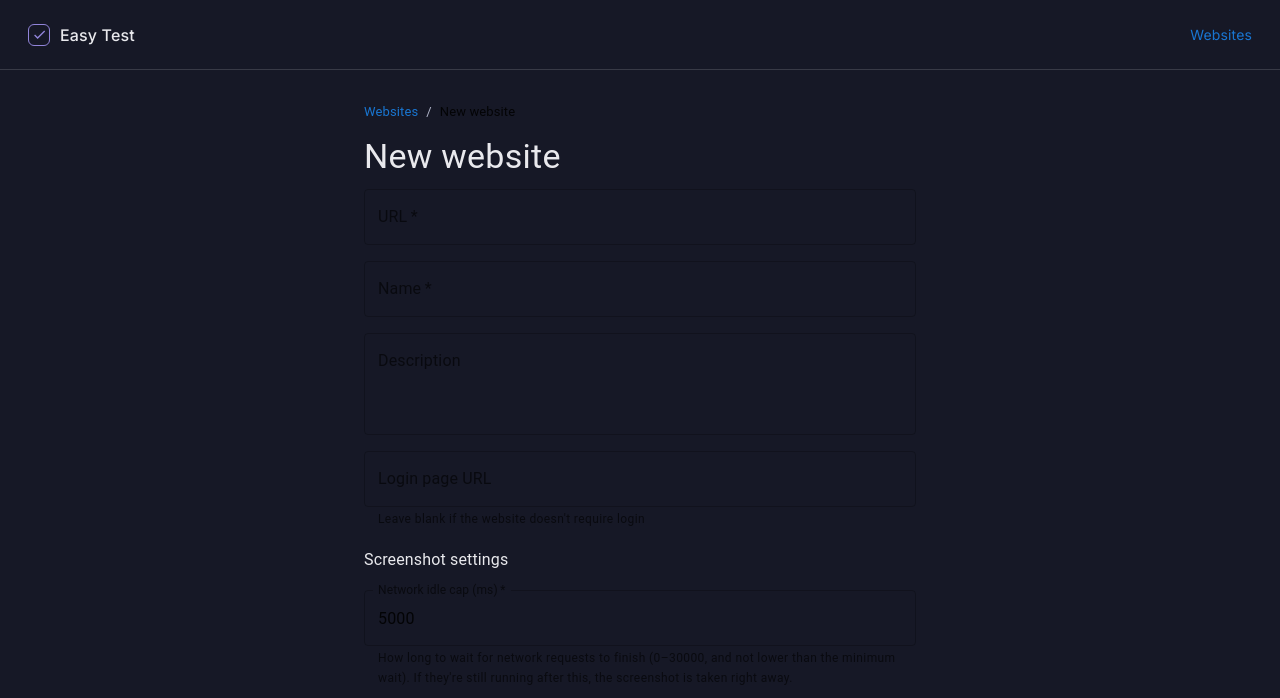
Test case: App routes › navigates home through the header's Easy Test name
The width and height of the screenshot is (1280, 698).
Check: the heading "New website" is shown, box x1=364 y1=136 x2=561 y2=176
Click the link "Easy Test".
click(81, 34)  # box x1=28 y1=22 x2=135 y2=46
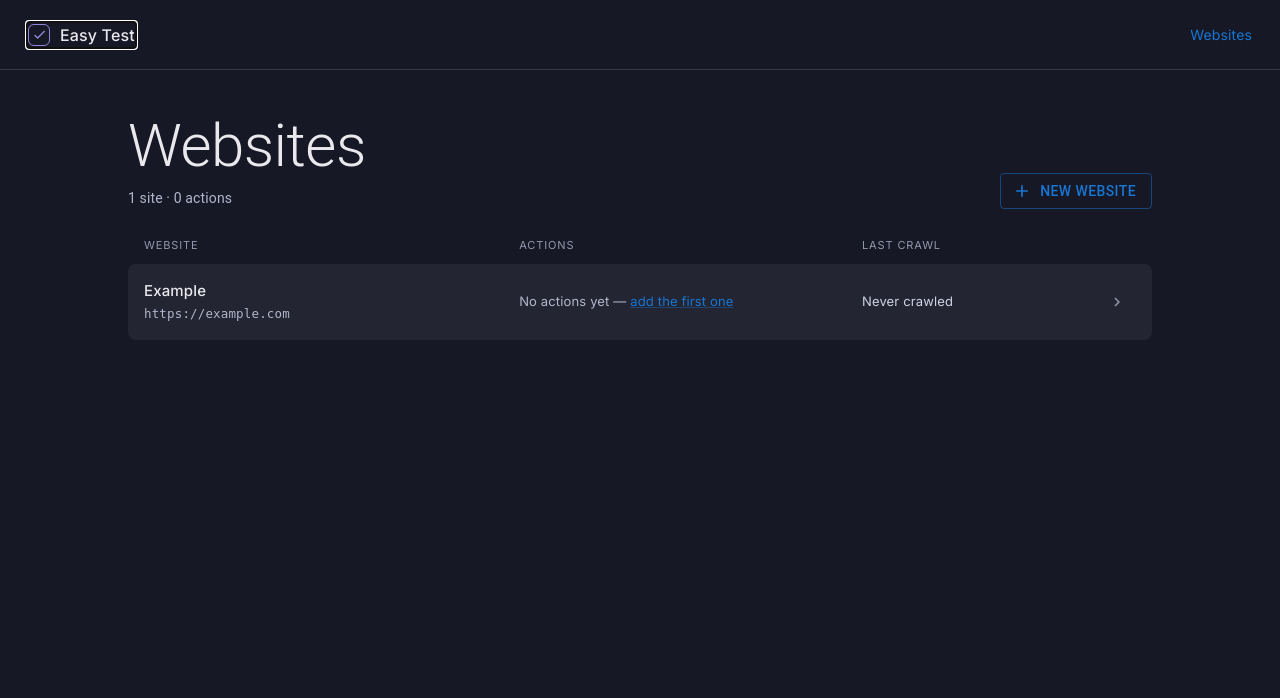
Check: the heading "Websites" is shown, box x1=128 y1=110 x2=366 y2=182
